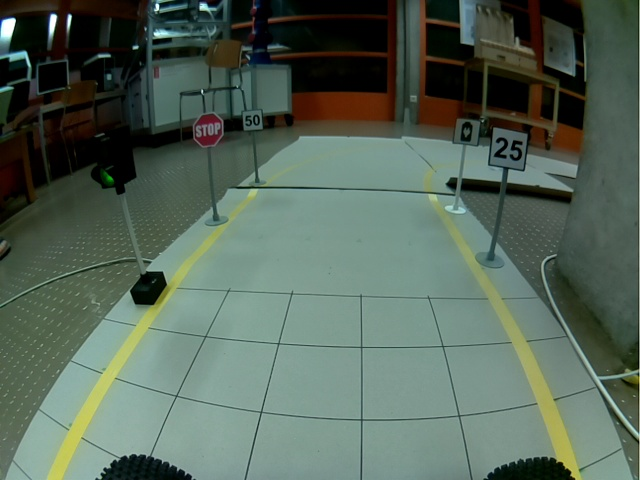battery: (453, 118, 481, 146)
speed25: (488, 126, 529, 172)
speed50: (242, 109, 263, 131)
stop: (192, 112, 224, 148)
trafficLightGreen: (90, 124, 137, 189)
